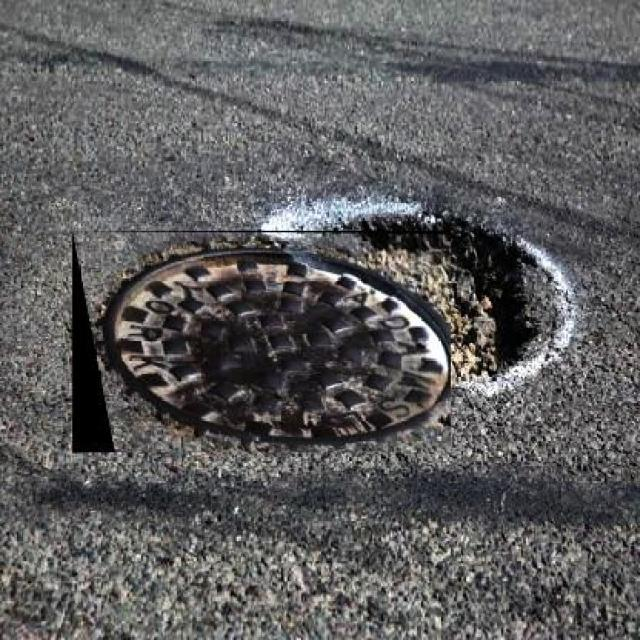Manhole: (72, 231, 451, 453)
Pothole: (452, 210, 572, 384)
